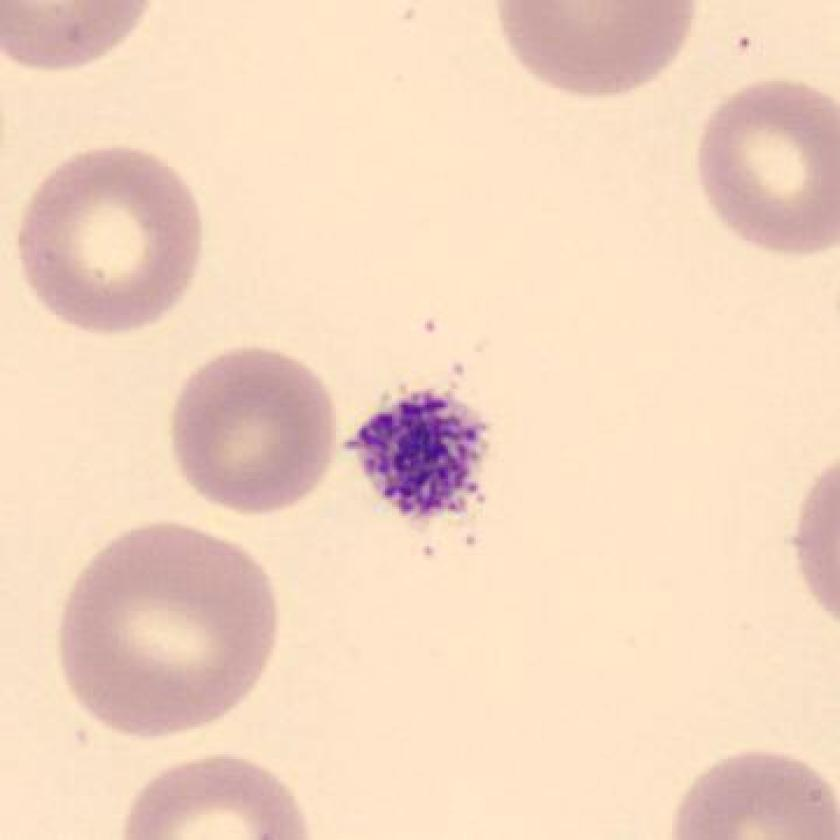platelets: (342, 383, 498, 542)
